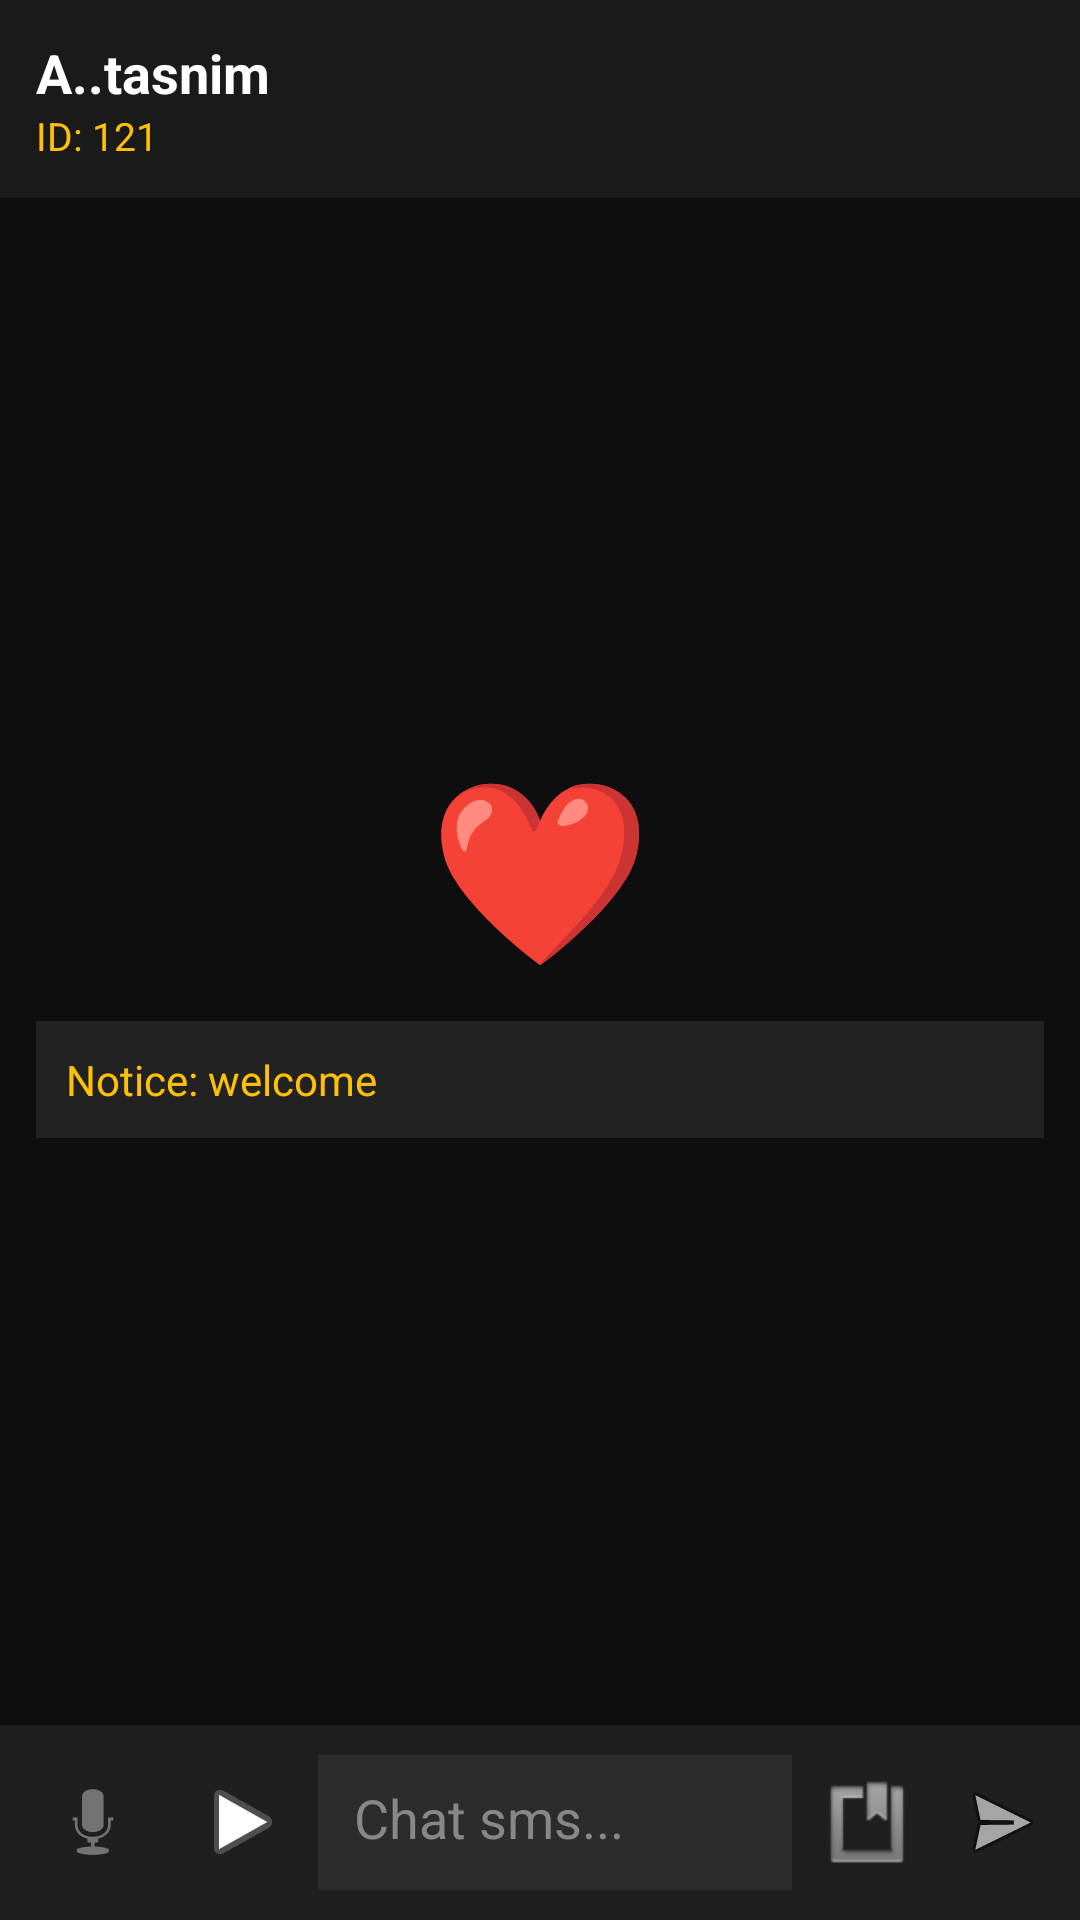

Locate icon controls on the screen. Image size 1080 x 1920, boxes as (x1, y1, x2, y2).
play: (214, 1790, 272, 1854)
send: (975, 1795, 1031, 1850)
speak now: (72, 1789, 114, 1855)
